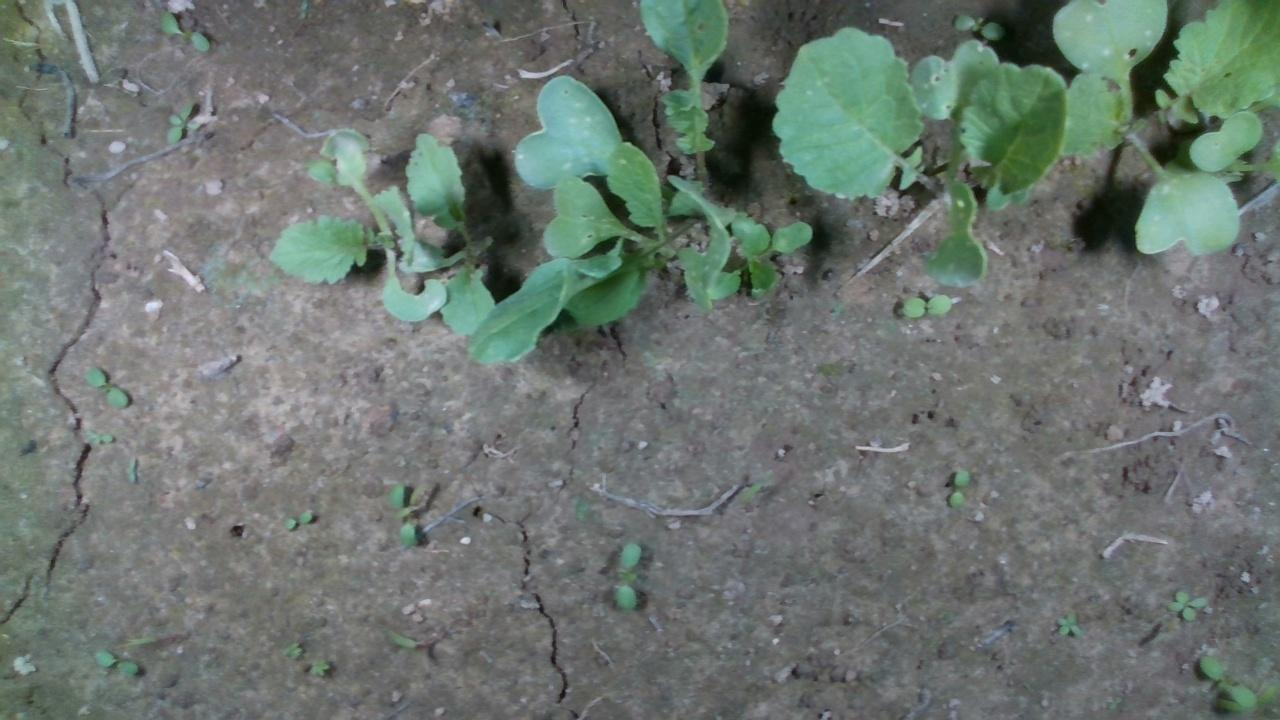weed: (157, 9, 210, 53), (82, 363, 130, 410), (612, 540, 642, 611), (385, 480, 416, 547), (162, 93, 199, 145), (951, 12, 1006, 39), (898, 292, 952, 318), (1163, 590, 1208, 621), (91, 648, 139, 677), (946, 466, 970, 508), (1054, 609, 1081, 638), (279, 508, 313, 529), (84, 429, 116, 447), (123, 453, 138, 483)
